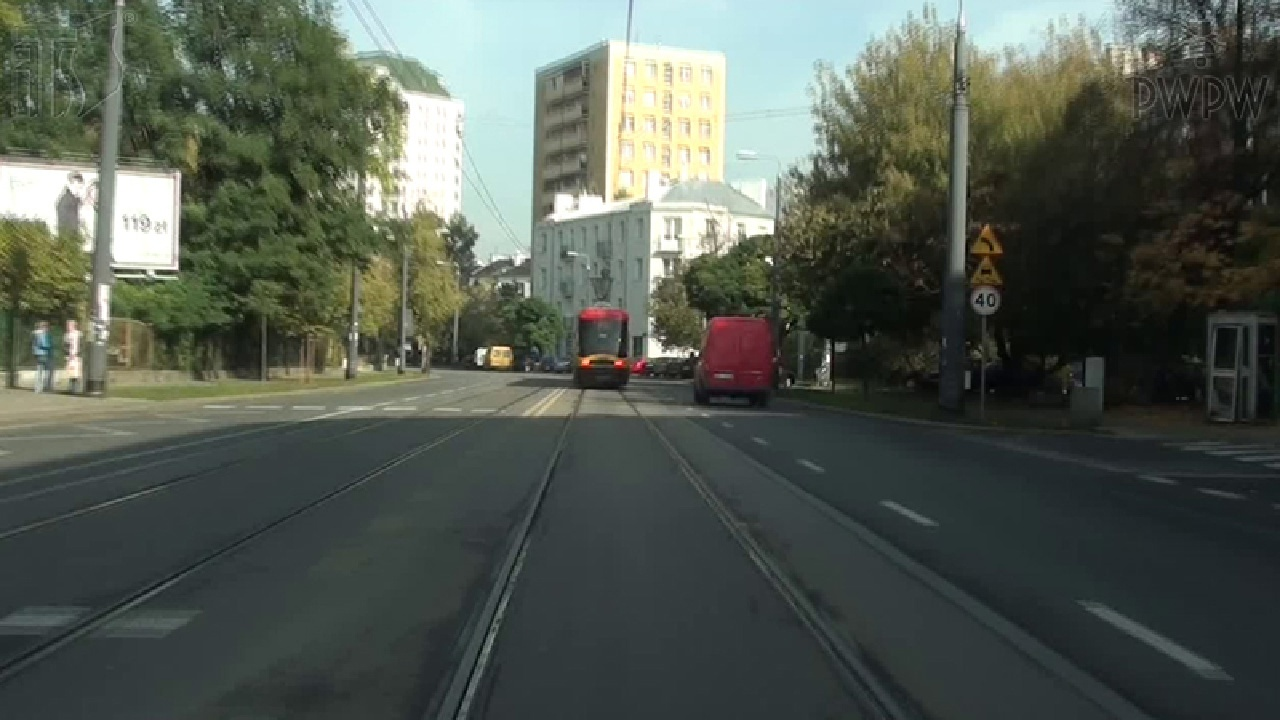A2: (968, 220, 1007, 255)
B33_40: (968, 283, 1002, 315)
